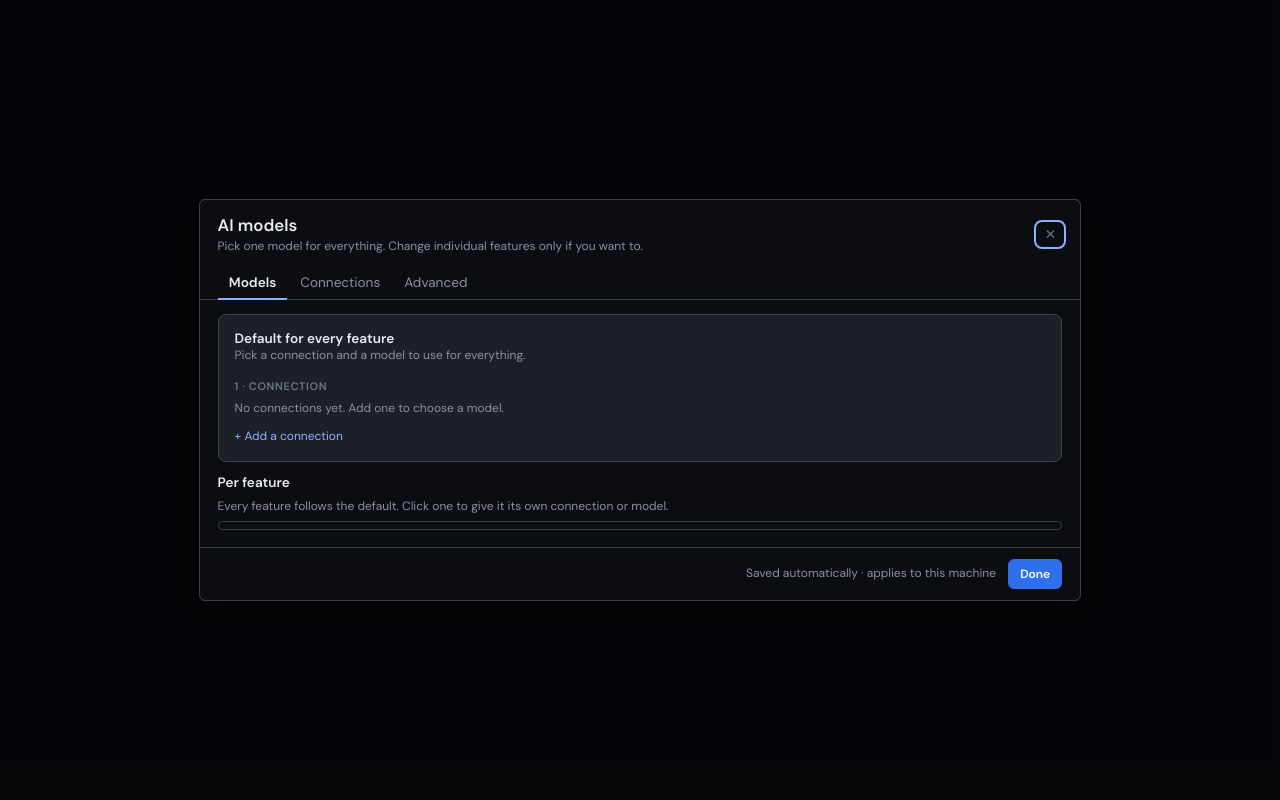
Test: LlmSettingsPanel › switches to the connections tab
Click the tab with test id "llm-settings-tab-connections" at x=340, y=283, box x1=289 y1=267 x2=391 y2=300
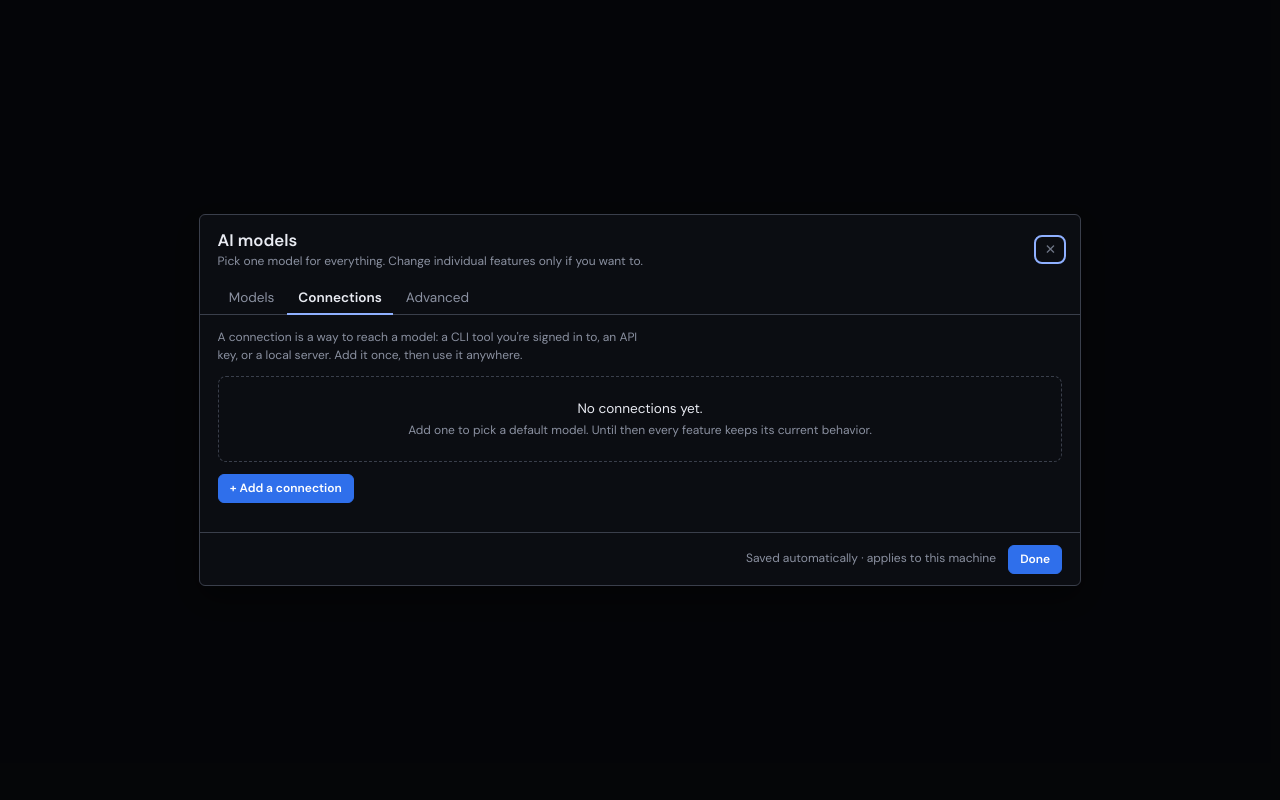
Now the element with test id "llm-providers-section" is shown, box x1=218 y1=329 x2=1062 y2=515
Now the element with test id "llm-models-tab" is gone
